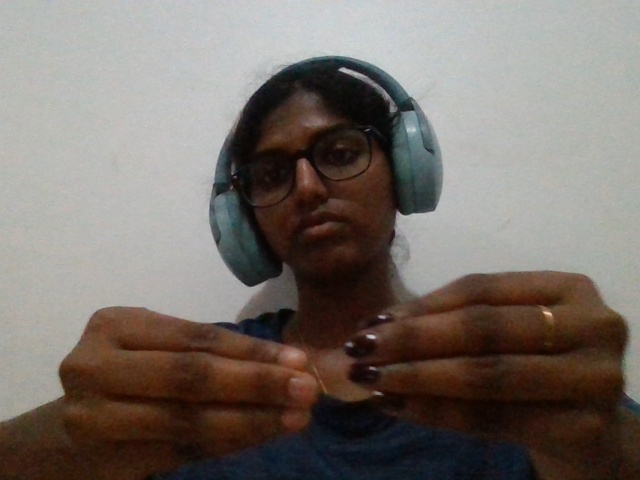More: (32, 260, 640, 477)
